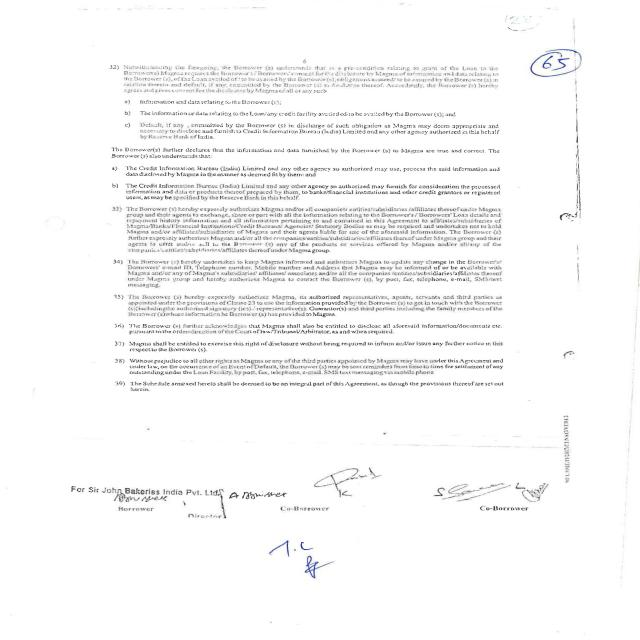page-number: (502, 32, 634, 136)
